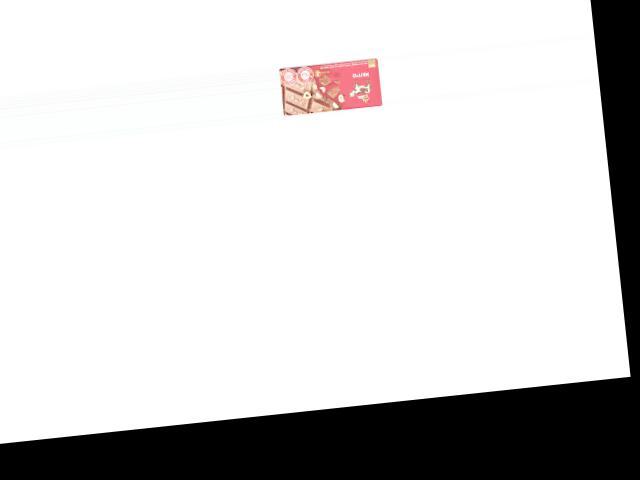chocolate: (278, 56, 383, 116)
